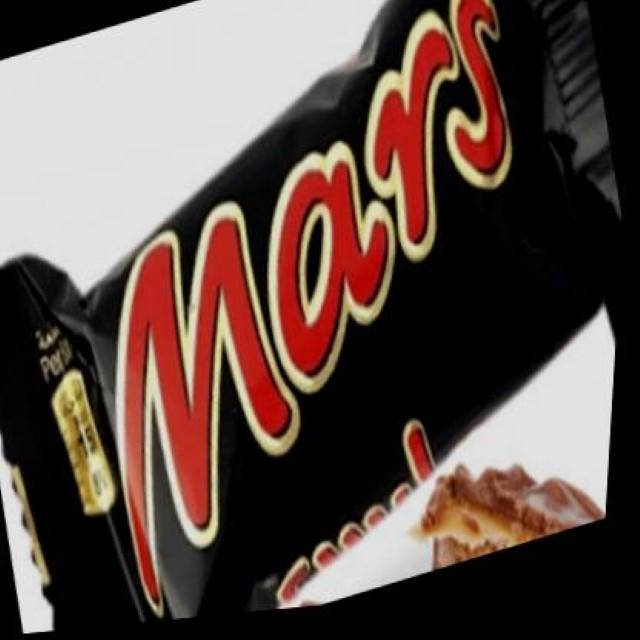mars_chocolate: (40, 57, 582, 570)
